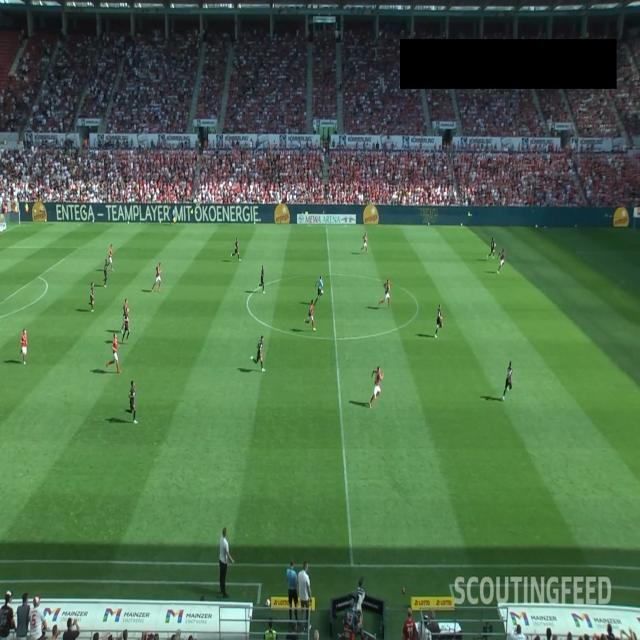ball: (535, 224, 538, 228)
